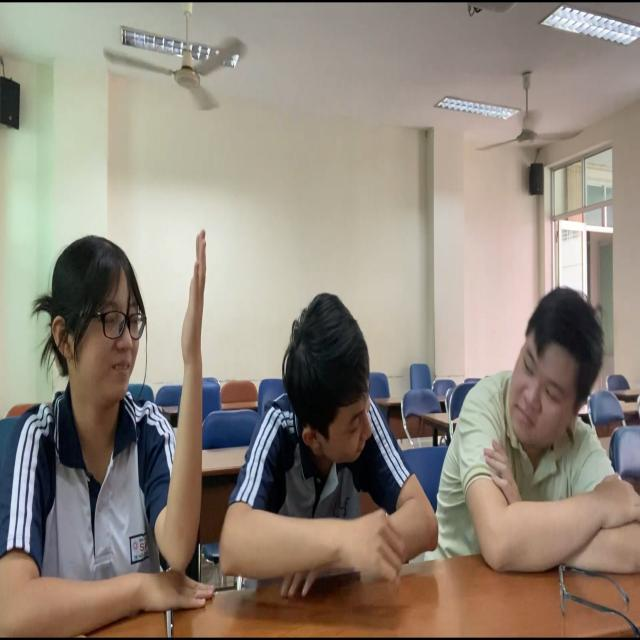raise_hand: (1, 225, 223, 622)
